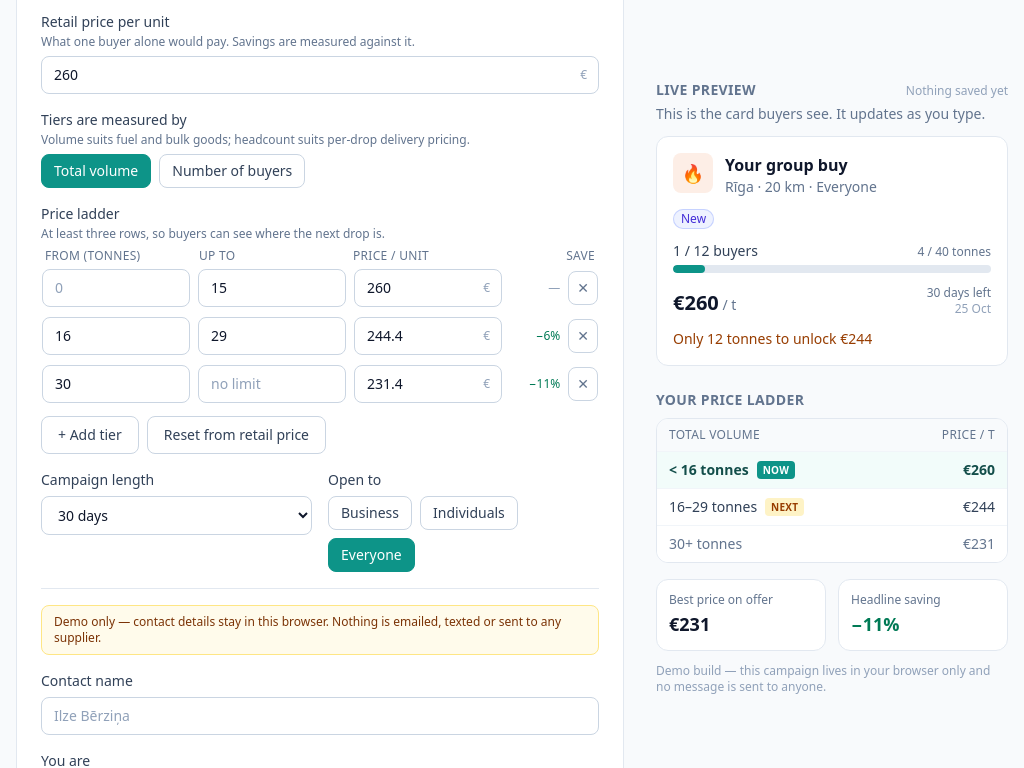
Test: CreateCampaignPage review › cannot delete the last tier, and can add one
(page scrolled)
Click the button named "remove tier": (583, 384) [568, 367, 598, 401]
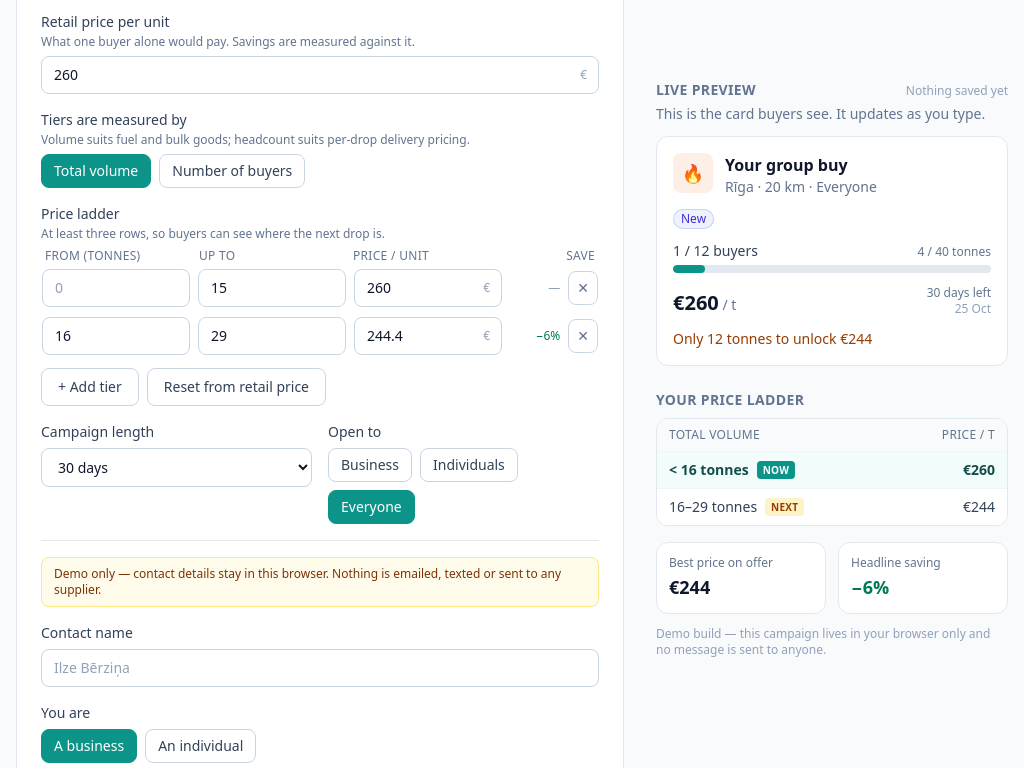
Click the button named "remove tier": (583, 336) [568, 319, 598, 353]
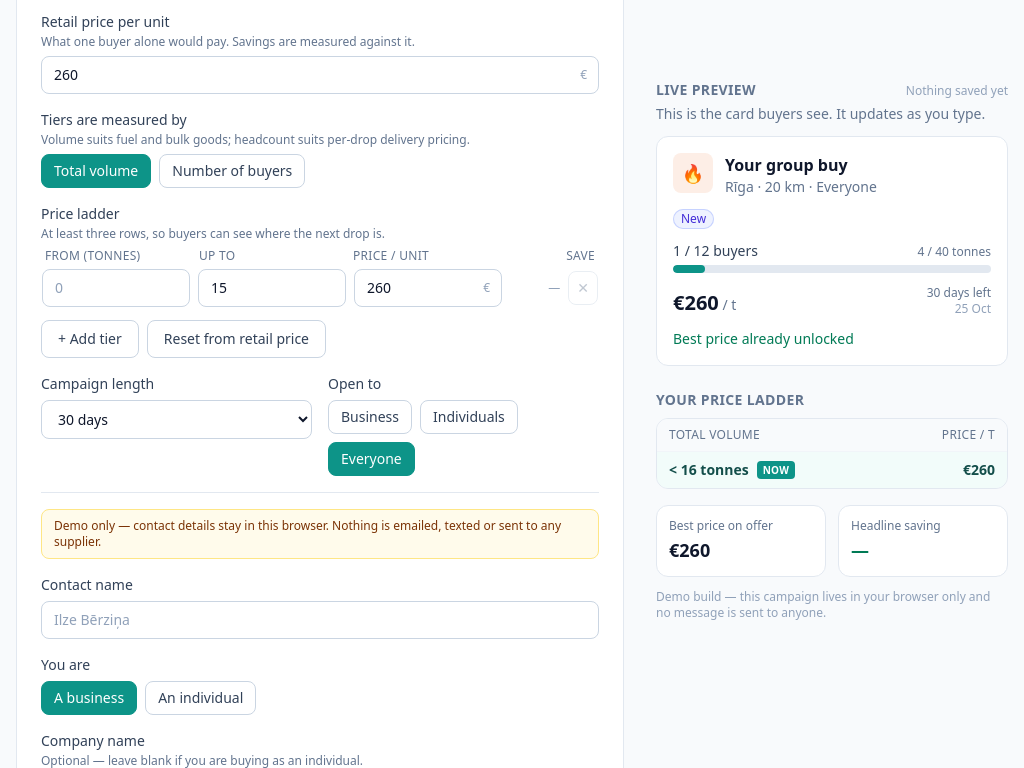
Expected: the heading "Live preview" is shown, [656, 80, 756, 100]
Expected: the number of buttons named "remove tier" is 1, [568, 271, 598, 305]
Expected: the button named "remove tier" is disabled, [568, 271, 598, 305]
Click the button "+ Add tier": (90, 339) [41, 320, 139, 358]
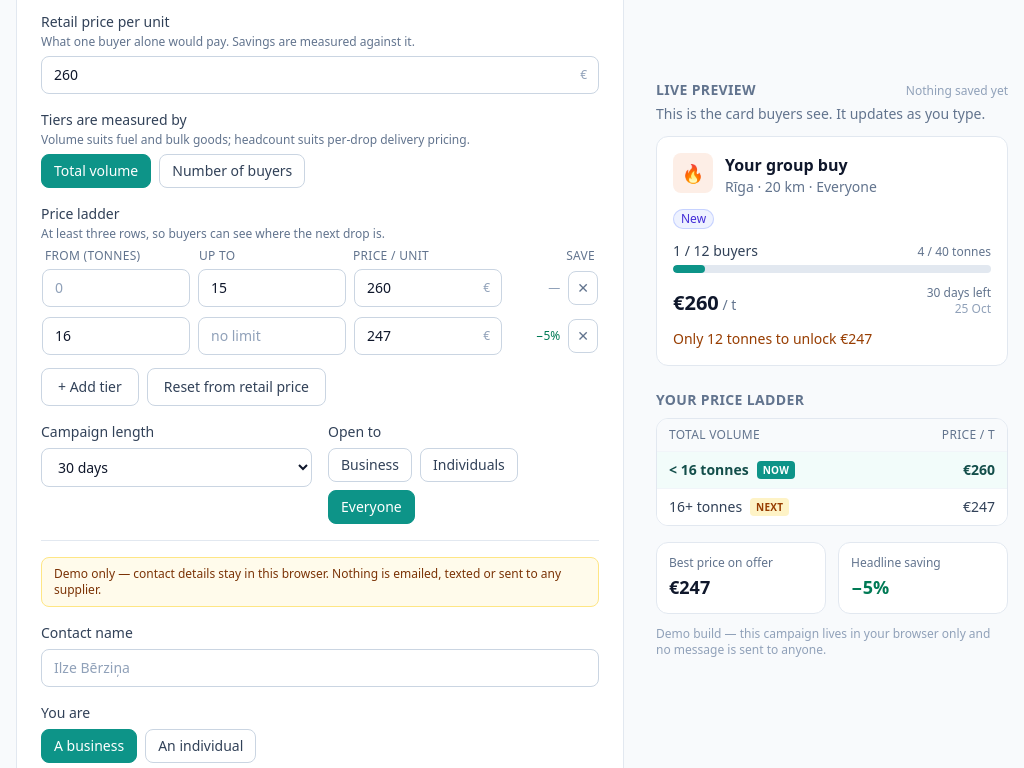
Expected: the number of buttons named "remove tier" is 2, [568, 271, 598, 305]; [568, 319, 598, 353]
